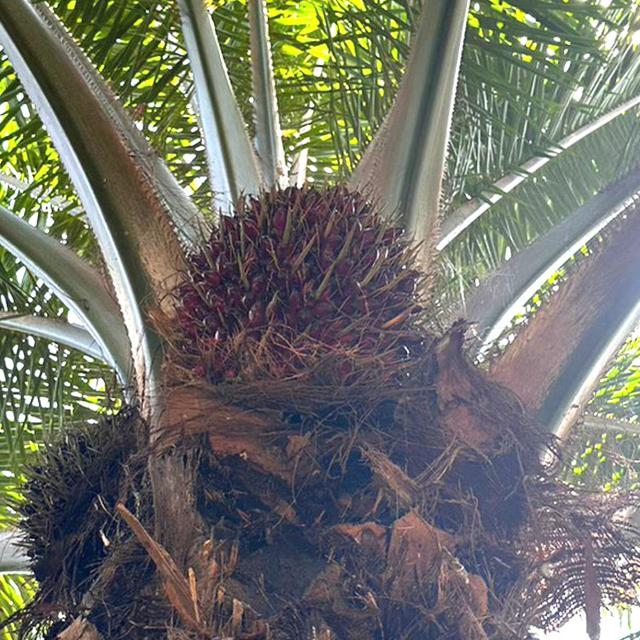ripe: (161, 172, 441, 382), (18, 407, 168, 634)
